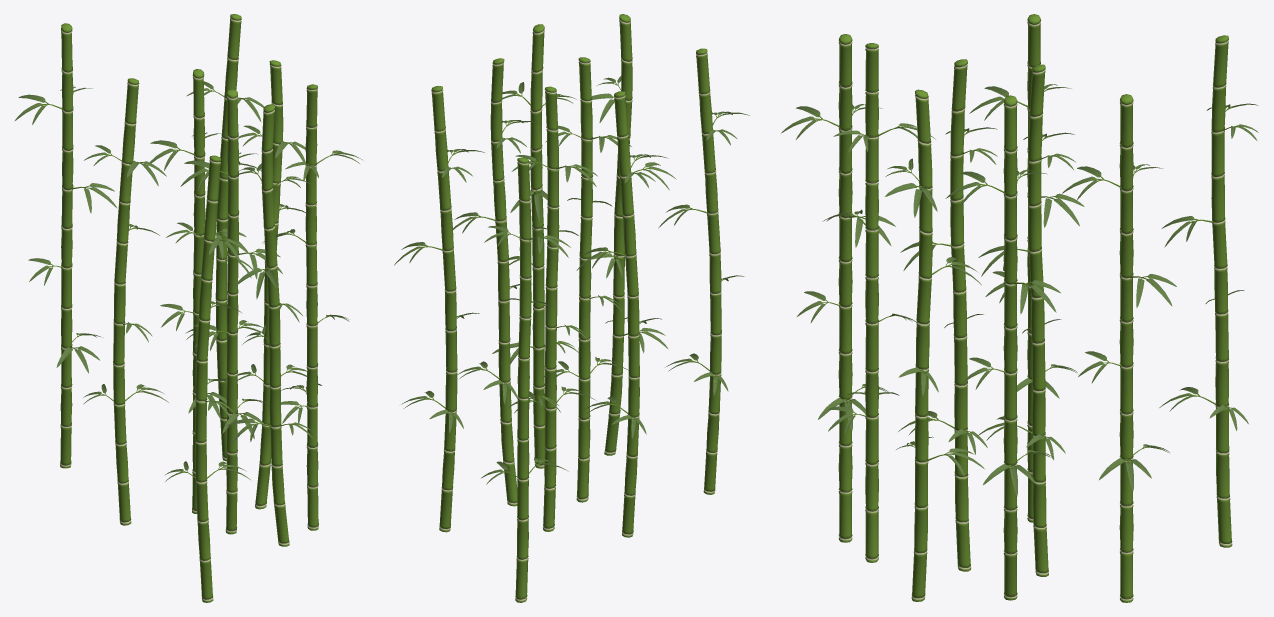
File: bamboo2.fbx
3 renders of one model, left to right at view 1: azimuth 30°, elevation 25°; view 2: azimuth 150°, elevation 25°; view 3: azimuth 270°, elevation 25°, orthographic. The views are drawn at different scales.
Parts seen in each view (by area): view 1: Bamboo.026; view 2: Bamboo.026; view 3: Bamboo.026.
Boxes of the visible parts, x1,y1,x2,y2 form: Bamboo.026: [15, 14, 362, 602]; Bamboo.026: [394, 14, 749, 602]; Bamboo.026: [781, 14, 1258, 602].
Bounding box in the file's own units: 2317 × 4738 × 3821.
